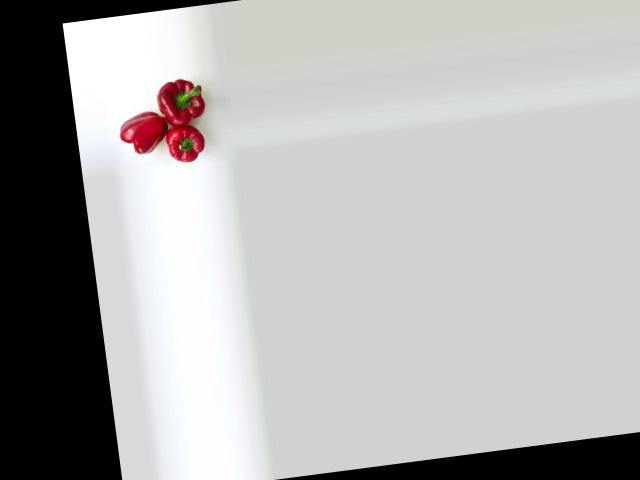bell_pepper: (111, 105, 173, 165)
